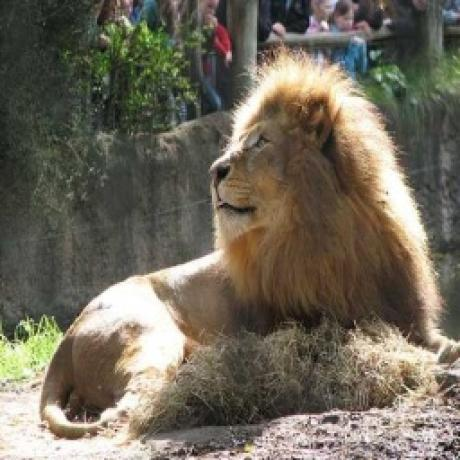Lion: (39, 42, 430, 422)
